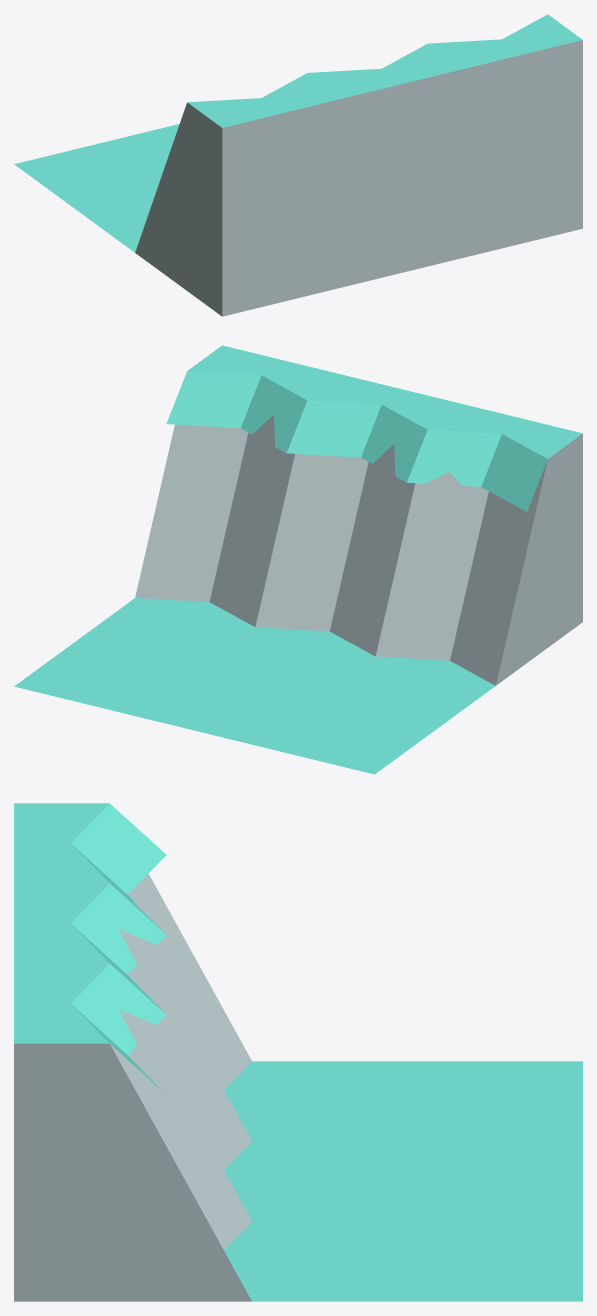
File: cliff_half_stone_grass.glb
3 renders of one model, top to bottom at view 1: azimuth 30°, elevation 25°; view 2: azimuth 150°, elevation 25°; view 3: azimuth 270°, elevation 25°, orthographic. The views are drawn at different scales.
Parts seen in each view (by area): view 1: cliff_half_stone_grass; view 2: cliff_half_stone_grass; view 3: cliff_half_stone_grass.
Part boxes in pixels (<box>): cliff_half_stone_grass: <box>14,14,582,316</box>; cliff_half_stone_grass: <box>14,345,582,774</box>; cliff_half_stone_grass: <box>14,803,582,1301</box>.
Bounding box in the file's own units: 1 × 0.5 × 1.
